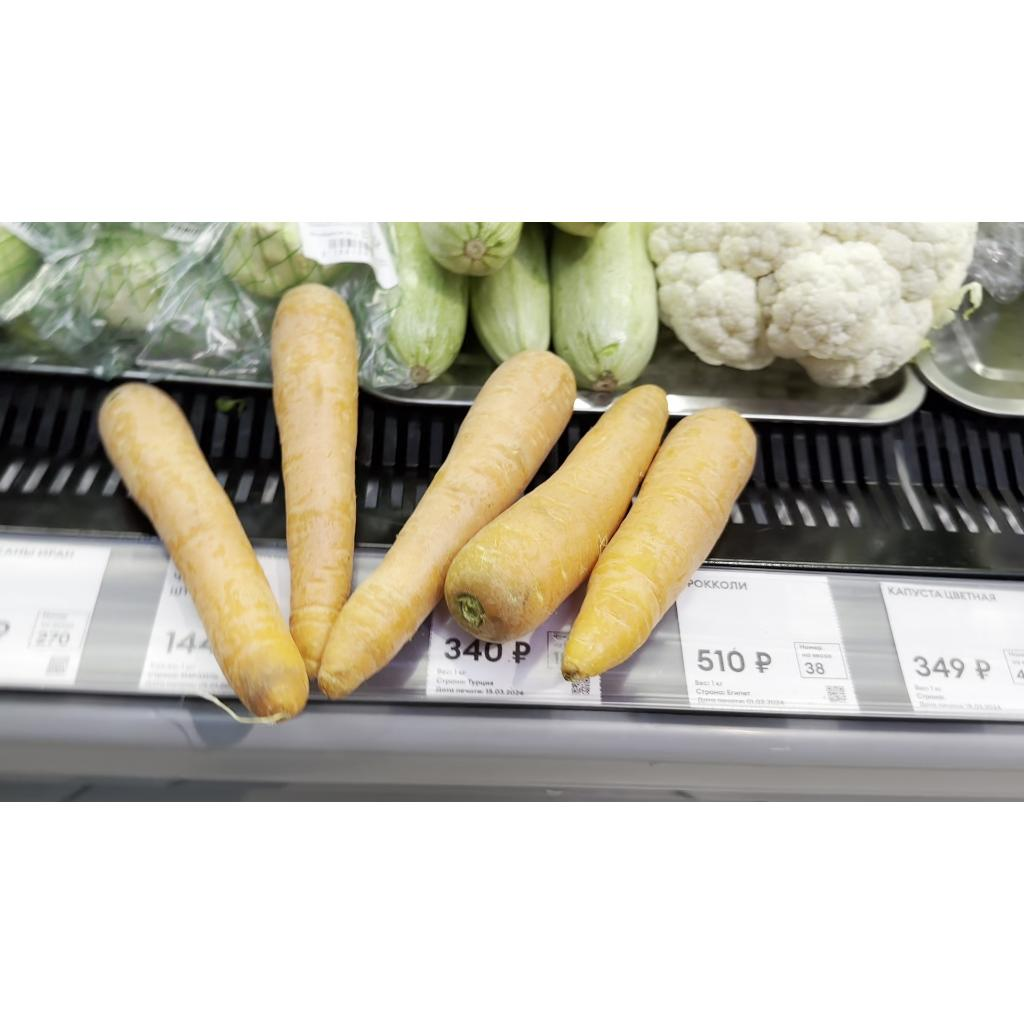carrot: (318, 350, 576, 698), (98, 384, 308, 718), (444, 384, 668, 642), (562, 408, 756, 680), (272, 284, 358, 675)
